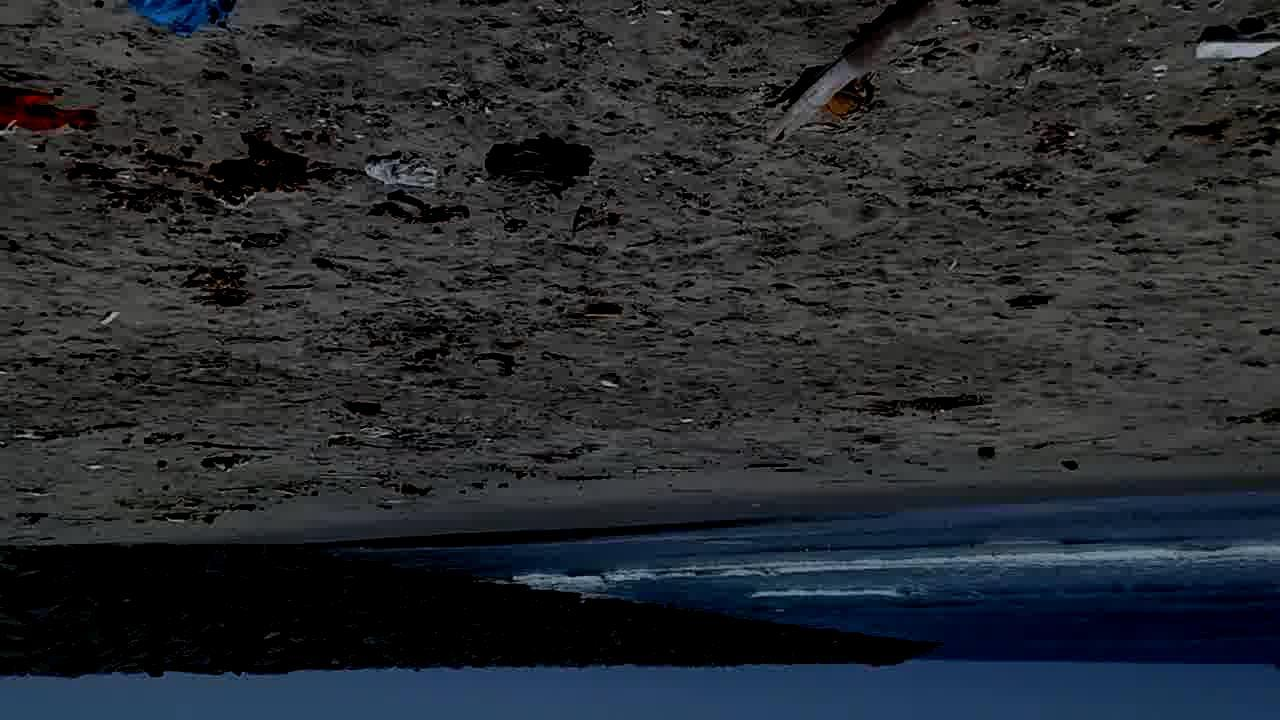obj: (761, 1, 972, 145), (141, 140, 326, 201), (472, 138, 590, 195), (170, 260, 254, 312), (366, 190, 474, 226), (1188, 34, 1279, 60)
sand/background: (1, 453, 1279, 719)
